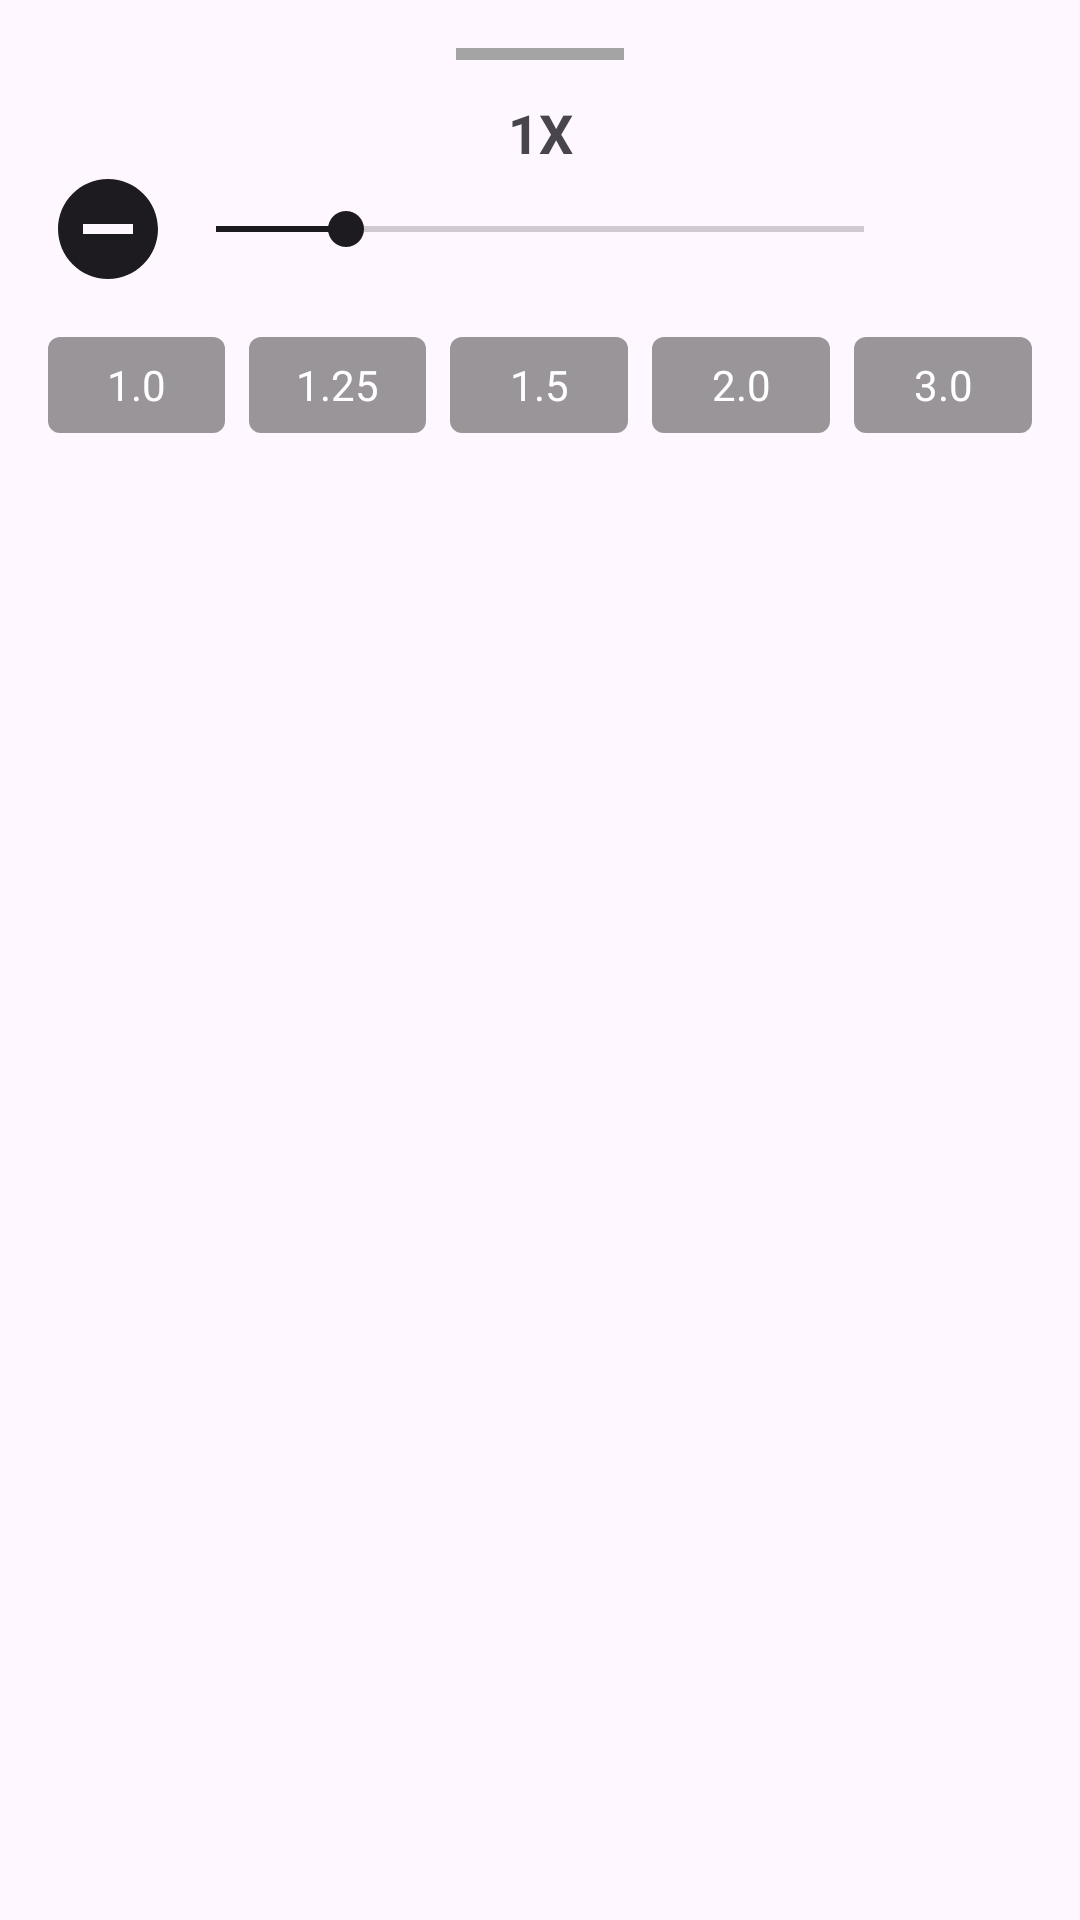

Icon bounding boxes for this 1080 × 1920 phone screenshot, format (x1, y1, x2, y2):
remove circle: (58, 179, 158, 279)
